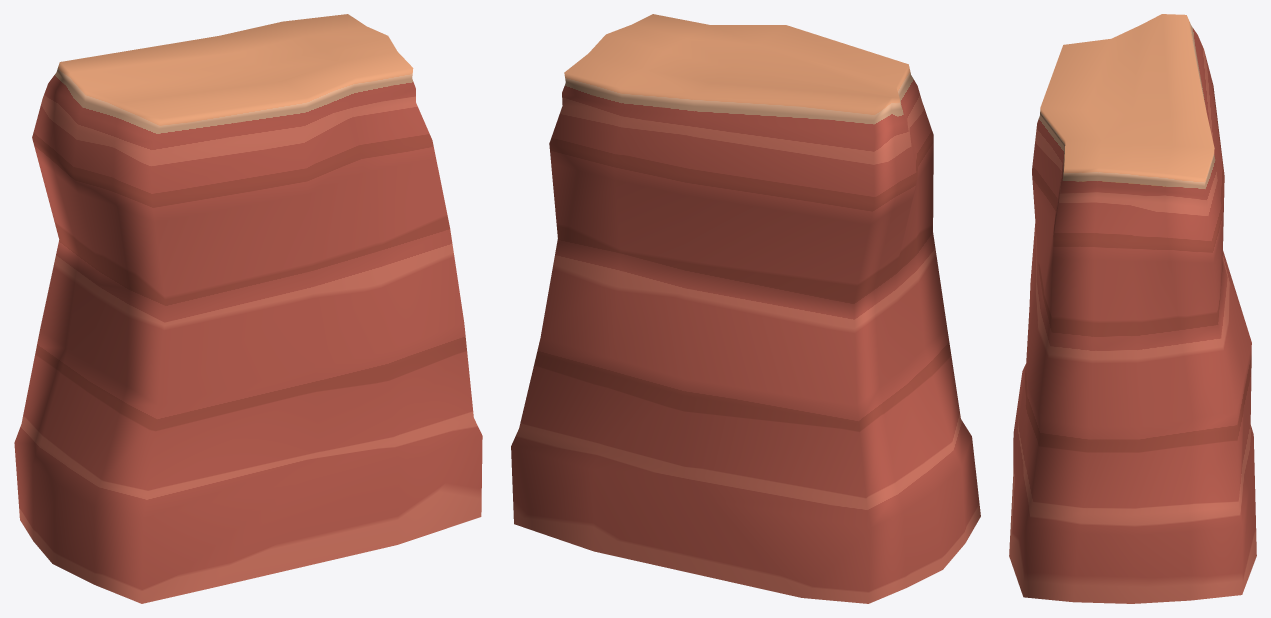
Rendered from BO_Rock_5x6x3.fbx.
The picture shows the model from 3 angles, left to right: view 1: azimuth 30°, elevation 25°; view 2: azimuth 150°, elevation 25°; view 3: azimuth 270°, elevation 25°; orthographic projection. The views are drawn at different scales.
Visible parts, largest first — view 1: Rock_5x6x3; view 2: Rock_5x6x3; view 3: Rock_5x6x3.
Part boxes in pixels (x1,y1,x2,y2): Rock_5x6x3: [14, 14, 482, 603]; Rock_5x6x3: [511, 14, 980, 603]; Rock_5x6x3: [1009, 14, 1256, 603].
Size of the model in its own units: 515 by 602 by 312.
1 material, 1 textured.
